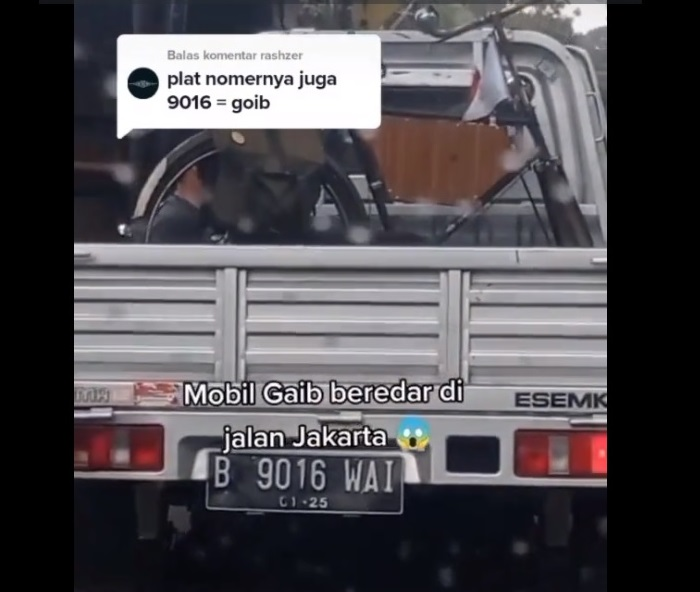plate: (209, 452, 403, 515)
